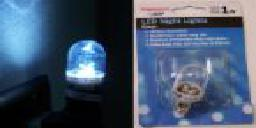LED: (64, 35, 113, 102)
